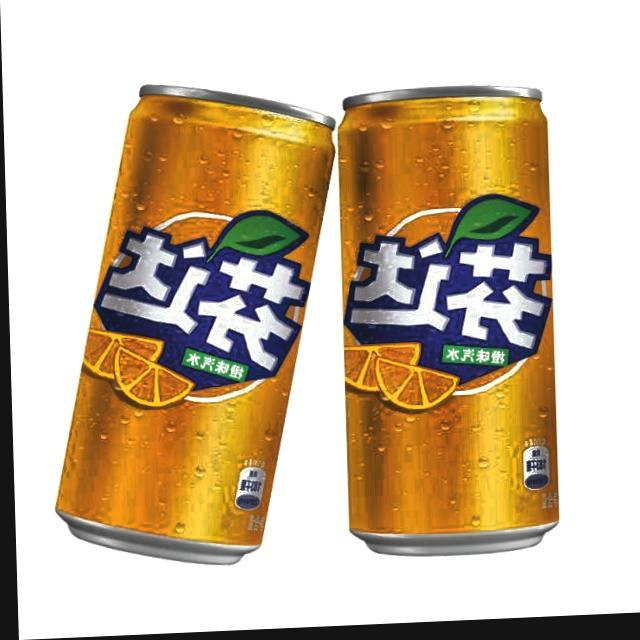Aluminum Can: (27, 69, 346, 582), (328, 76, 566, 572)
